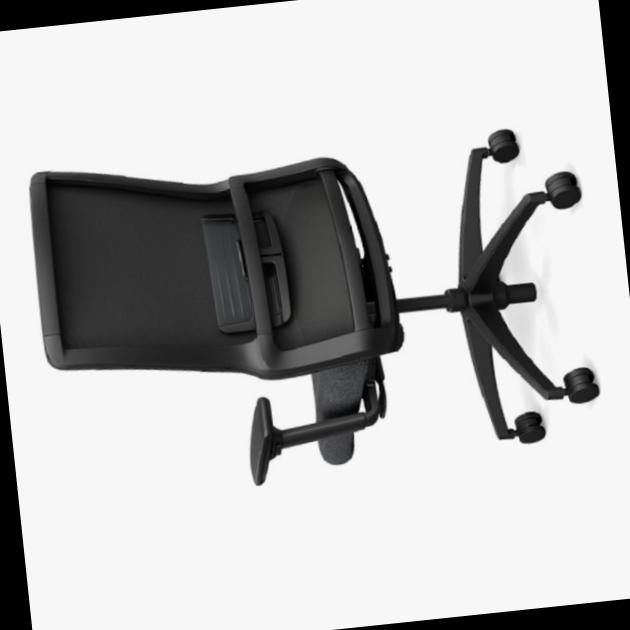chair: (13, 96, 608, 510)
